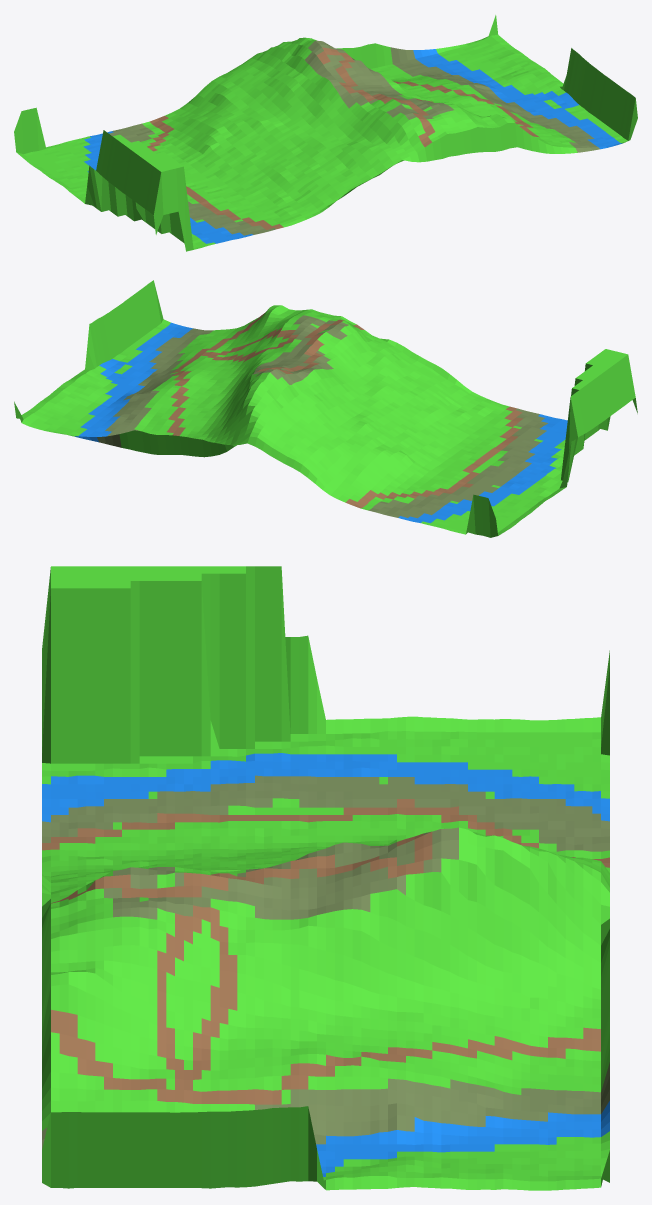
Rendered from StruveAavasaksa.fbx.
3 views of the same model, one above another, from view 1: azimuth 30°, elevation 25°; view 2: azimuth 150°, elevation 25°; view 3: azimuth 270°, elevation 25° (orthographic). The views are drawn at different scales.
Parts seen in each view (by area): view 1: Plane; view 2: Plane; view 3: Plane.
Part boxes in pixels (x1,y1,x2,y2): Plane: (14, 15, 637, 251); Plane: (14, 280, 637, 537); Plane: (42, 566, 609, 1190).
Bounding box in the file's own units: 5390 × 900 × 2750.
